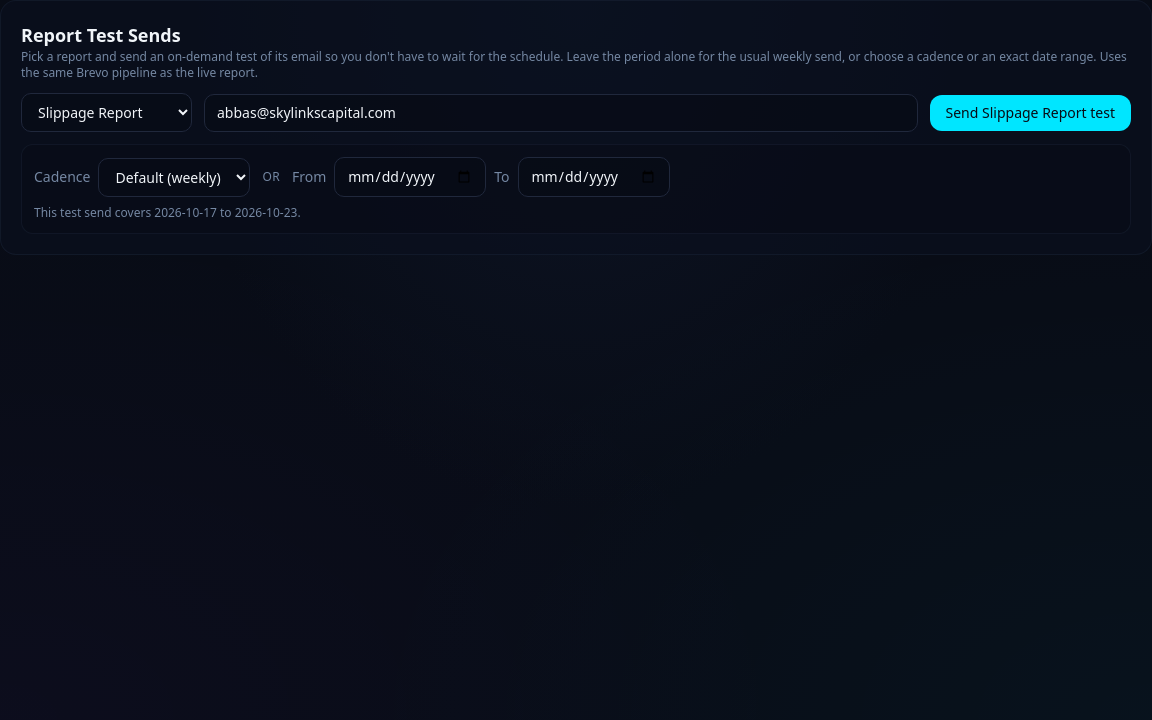
it: ReportTestSendPanel resolved period and errors › echoes a chosen range back rather than a cadence window
Type "2026-08-01" into the date field named "From date" at (410, 177), box x1=334 y1=157 x2=486 y2=197
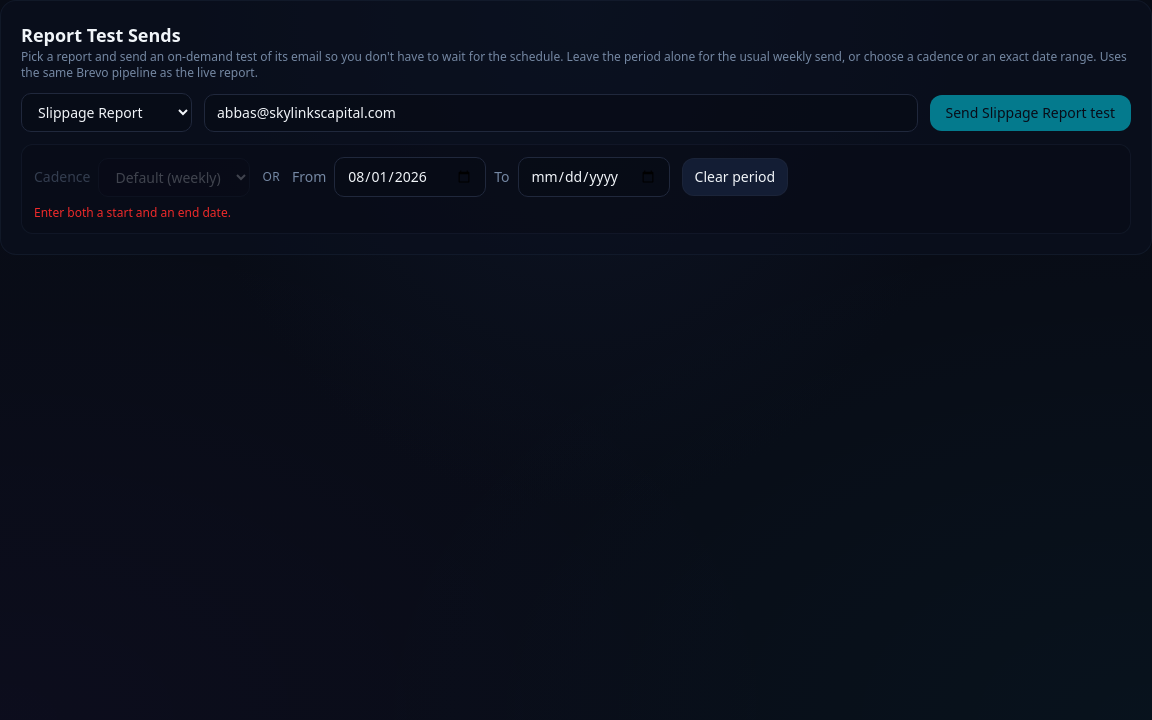
Type "2026-08-15" into the date field named "To date" at (594, 177), box x1=518 y1=157 x2=670 y2=197
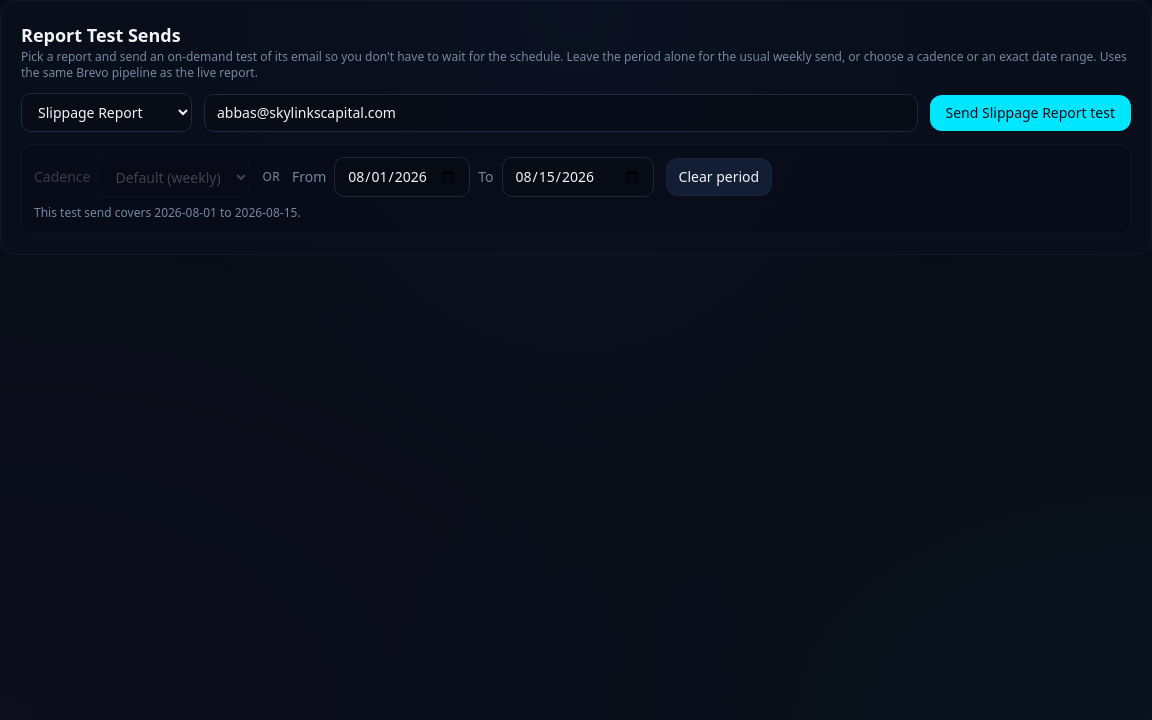
Now the text "This test send covers 2026-08-01 to 2026-08-15." is shown, box x1=34 y1=204 x2=301 y2=221
